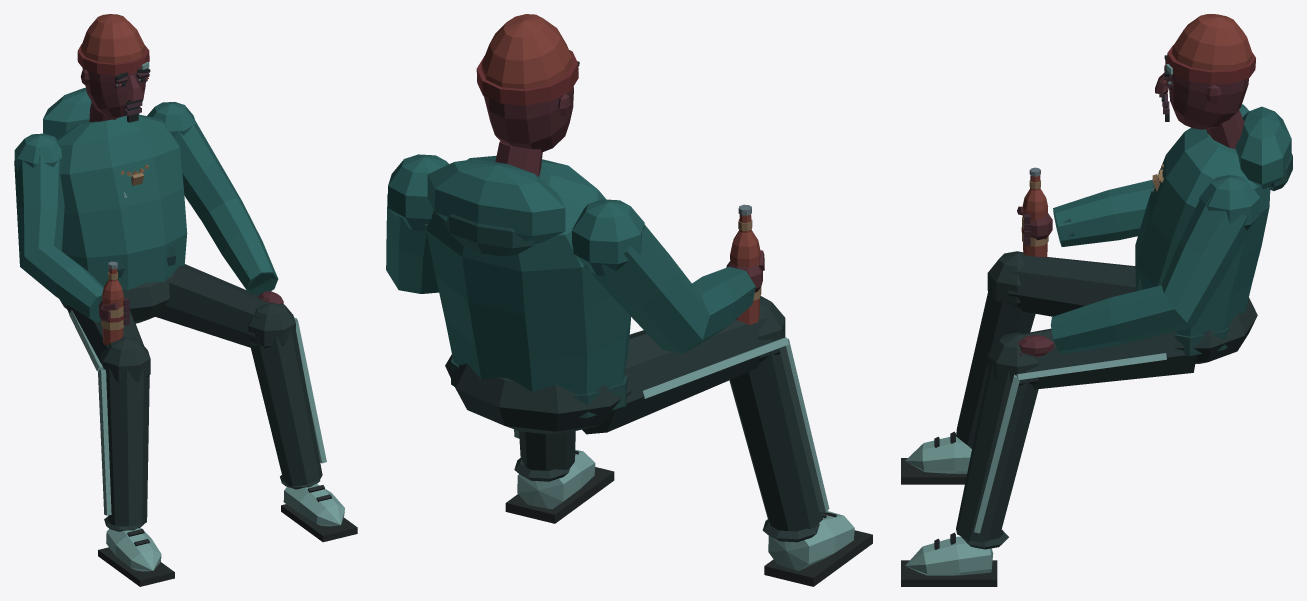
Rendered from betiv.glb.
3 renders of one model, left to right at view 1: azimuth 30°, elevation 25°; view 2: azimuth 150°, elevation 25°; view 3: azimuth 270°, elevation 25°, orthographic. The views are drawn at different scales.
Visible parts, largest first — view 1: Corp, BratBere, Cap, SticlaMana; view 2: Corp, BratBere, Cap, SticlaMana; view 3: Corp, Cap, BratBere, SticlaMana.
Boxes of the visible parts, x1,y1,x2,y2 form: Corp: (43,88,357,586); BratBere: (14,133,129,325); Cap: (77,14,150,122); SticlaMana: (101,261,124,344); Corp: (386,154,872,586); BratBere: (572,199,764,353); Cap: (476,14,579,176); SticlaMana: (730,204,761,324); Corp: (901,106,1292,586); Cap: (1155,14,1255,148); BratBere: (1017,104,1249,246); SticlaMana: (1021,167,1048,257).
Size of the model in its own units: 0.7365 by 1.4 by 0.9776.
